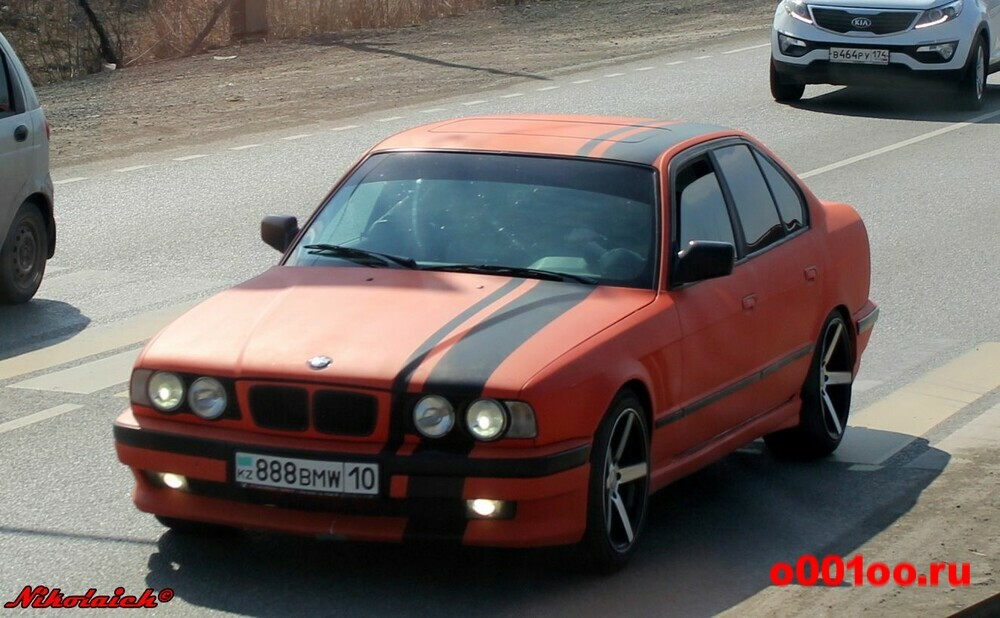license_plate: (234, 450, 381, 499)
